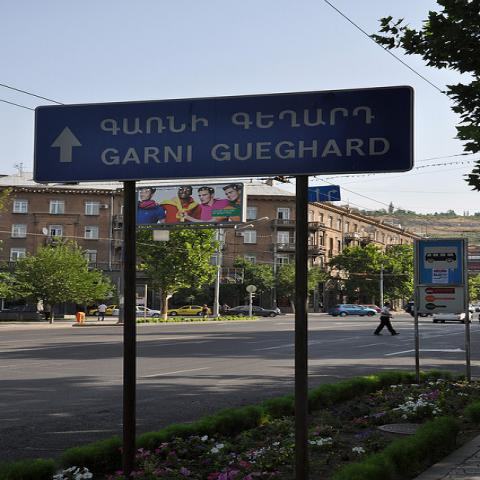car: (328, 304, 377, 317), (224, 306, 279, 317), (168, 305, 204, 316), (432, 313, 466, 323), (88, 305, 118, 316), (138, 306, 161, 319), (435, 316, 461, 325), (360, 304, 382, 313), (468, 303, 479, 314)
